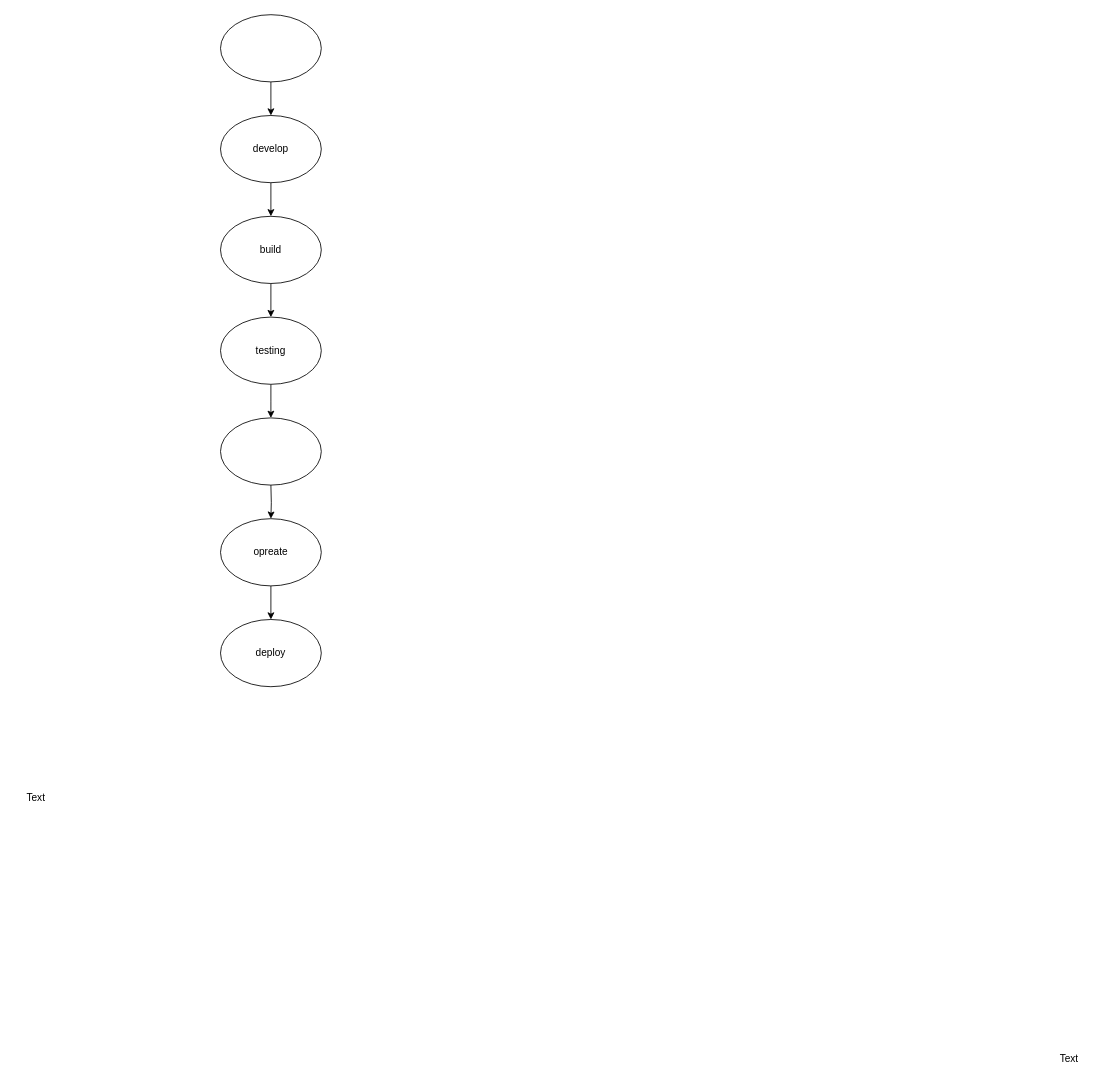
Some shapes in this 1104 by 1086 pixel diagram are drawn without their labels. Here are the shapes that lost their labels. From the top down, the centre of each, then its label:
At (270,48): "plan".
At (270,451): "release".
